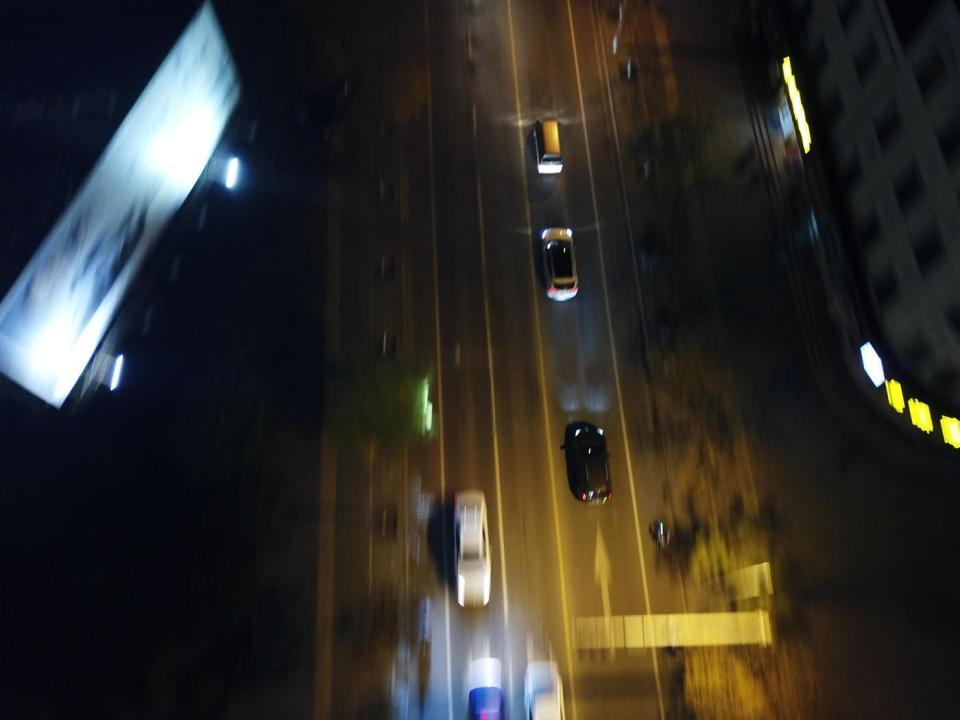car: (453, 488, 491, 604), (564, 422, 613, 502), (542, 227, 577, 302), (464, 655, 504, 720), (526, 659, 564, 720)
van: (534, 117, 562, 175)
